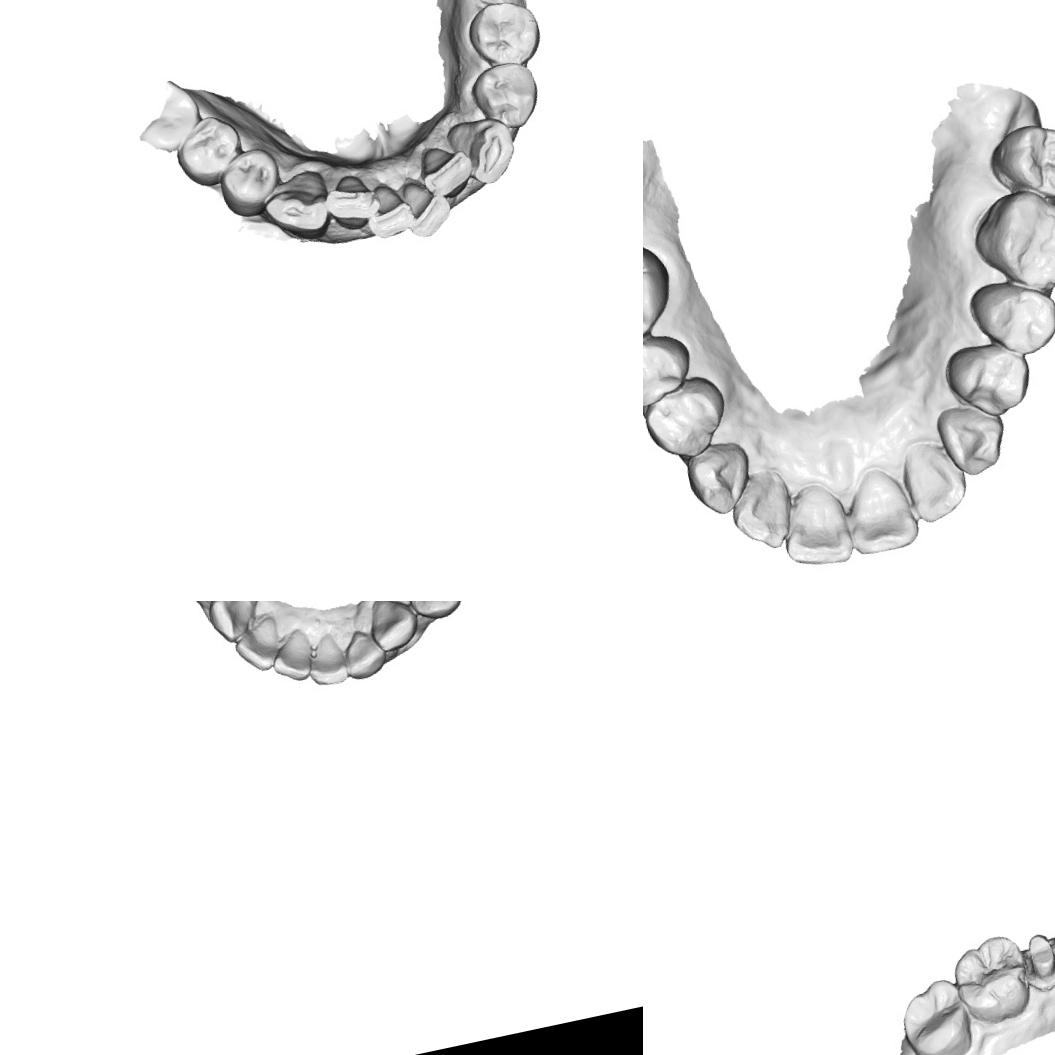canine: (932, 398, 1016, 483), (681, 438, 761, 521), (260, 170, 334, 244), (449, 114, 517, 190), (365, 601, 423, 655), (204, 601, 266, 646)
crown: (1020, 926, 1055, 992)
incisor: (835, 469, 924, 561), (774, 480, 854, 574), (896, 433, 972, 528), (724, 470, 801, 558), (396, 164, 456, 242), (323, 170, 386, 232), (414, 140, 477, 201), (362, 178, 416, 244), (232, 624, 282, 676), (341, 629, 390, 682), (302, 637, 350, 690), (268, 636, 314, 686)
molar: (965, 179, 1055, 306), (947, 930, 1037, 1030), (980, 113, 1055, 213), (893, 973, 978, 1055), (643, 236, 684, 359)
premolar: (963, 270, 1055, 367), (940, 334, 1034, 428), (643, 374, 736, 467), (459, 0, 545, 76), (168, 110, 248, 190), (469, 56, 545, 138), (213, 146, 283, 218), (643, 327, 700, 415), (404, 601, 466, 623)
